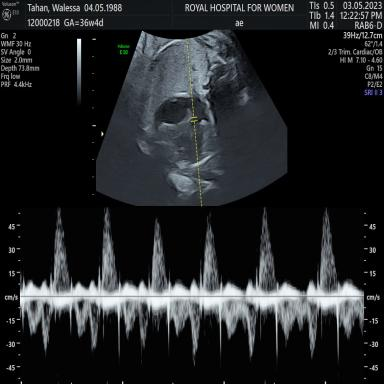Ultrasound-Waves: (25, 206, 364, 384)
